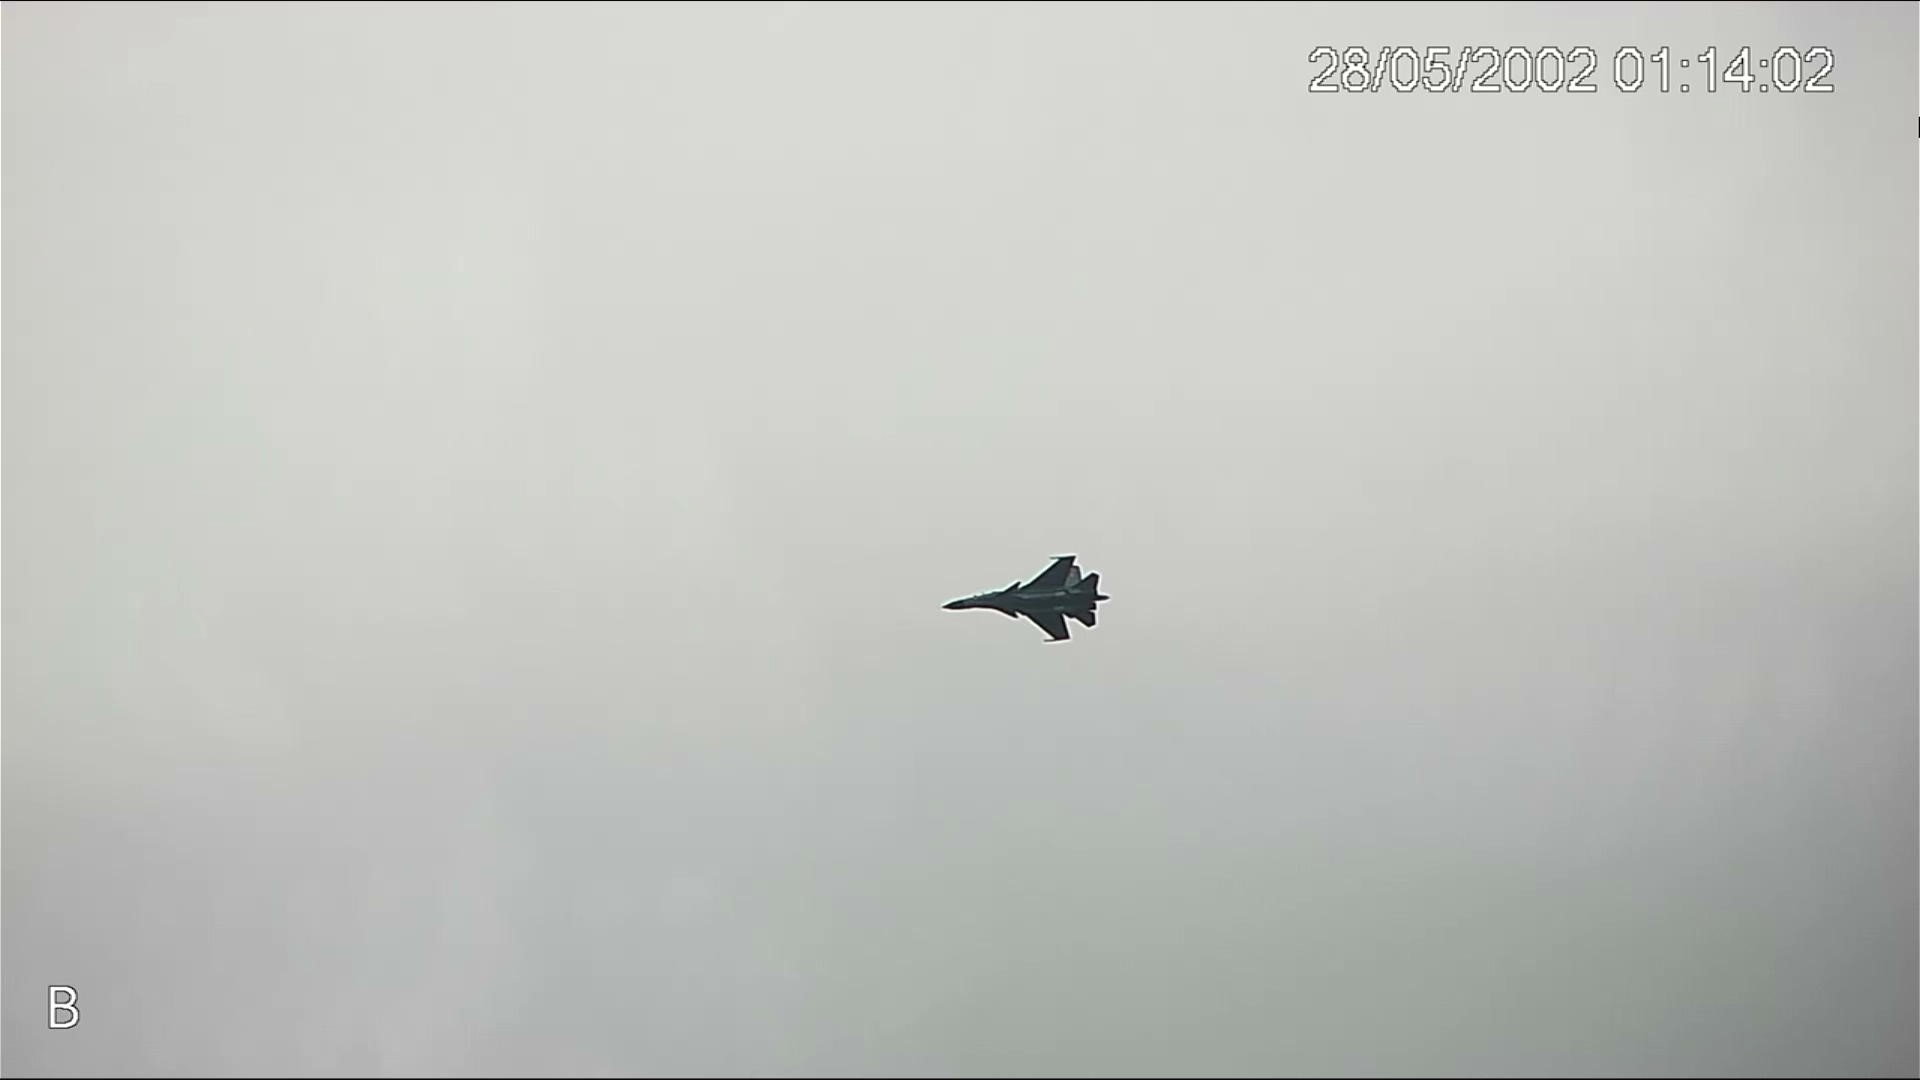SU_30: (940, 551, 1122, 650)
